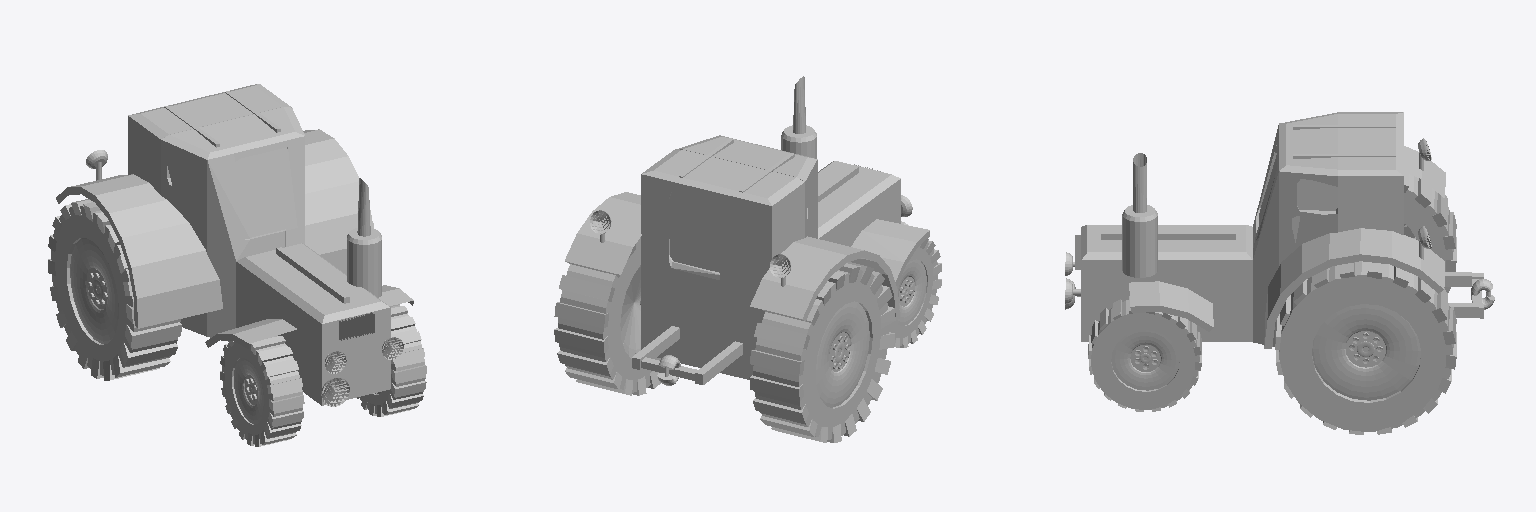
The model's file is tractor003.obj.
3 renders of one model, left to right at view 1: azimuth 30°, elevation 25°; view 2: azimuth 150°, elevation 25°; view 3: azimuth 270°, elevation 25°, orthographic.
Parts seen in each view (by area): view 1: polySurface77, polySurface85, polySurface203, pCube14; view 2: polySurface77, polySurface85, polySurface203, pCube14; view 3: polySurface77, polySurface85, polySurface203, pCube14.
Part boxes in pixels (x1,y1,x2,y2): polySurface77: (56,84,413,405); polySurface85: (48,199,426,446); polySurface203: (70,150,403,423); pCube14: (236,147,287,237); polySurface77: (565,135,929,379); polySurface85: (554,237,941,442); polySurface203: (590,76,926,407); pCube14: (669,191,719,272); polySurface77: (1073,112,1445,348); polySurface85: (1088,172,1456,434); polySurface203: (1065,138,1494,400); pCube14: (1259,155,1337,242).
Bounding box in the file's own units: 9.18 × 8.38 × 13.62.